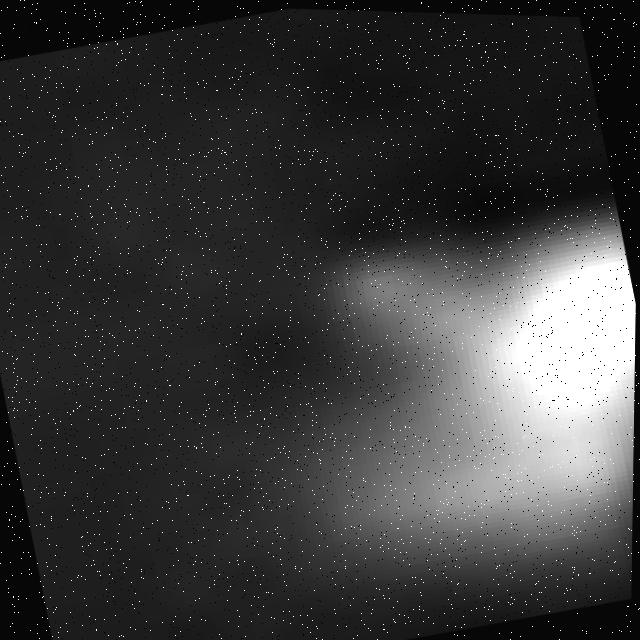person: (214, 149, 639, 638)
